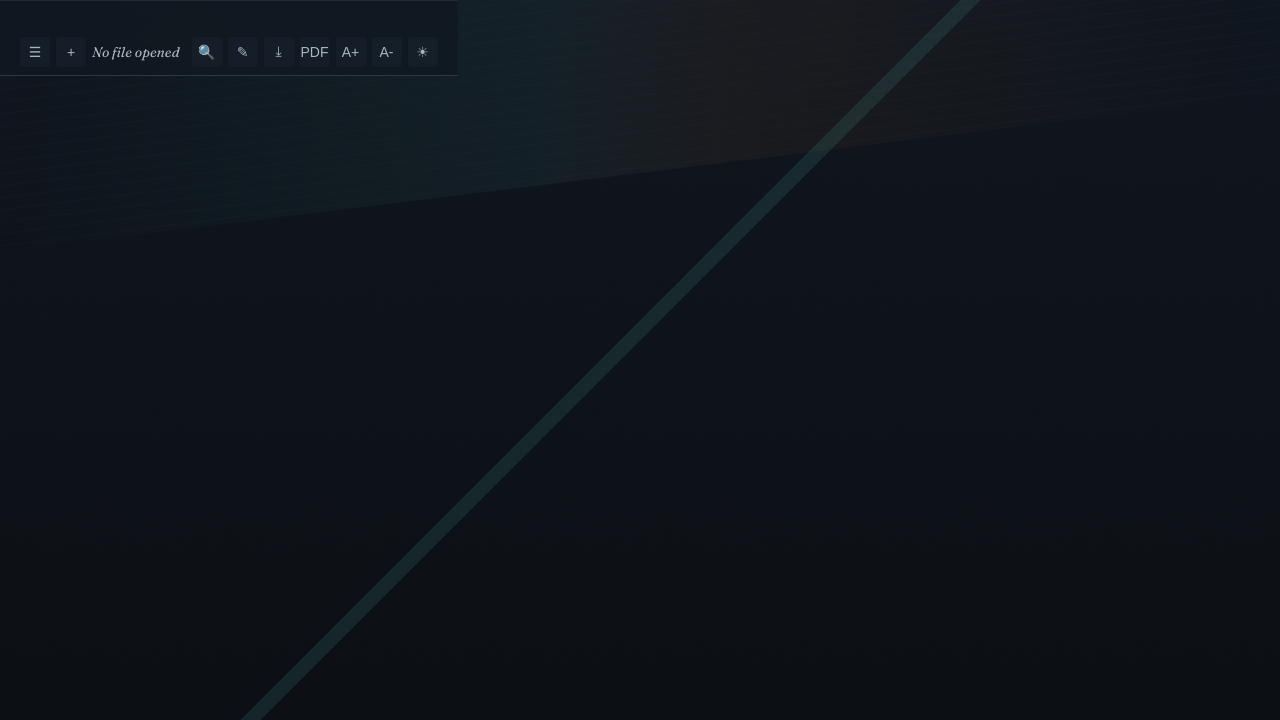
Scenario: Toolbar › clicking New Markdown creates an editable untitled document
The image size is (1280, 720).
What coordinates should you click on to do the following:
click the button titled "New Markdown"
I would click on:
 (71, 52)
Its box is [56,36,86,66].
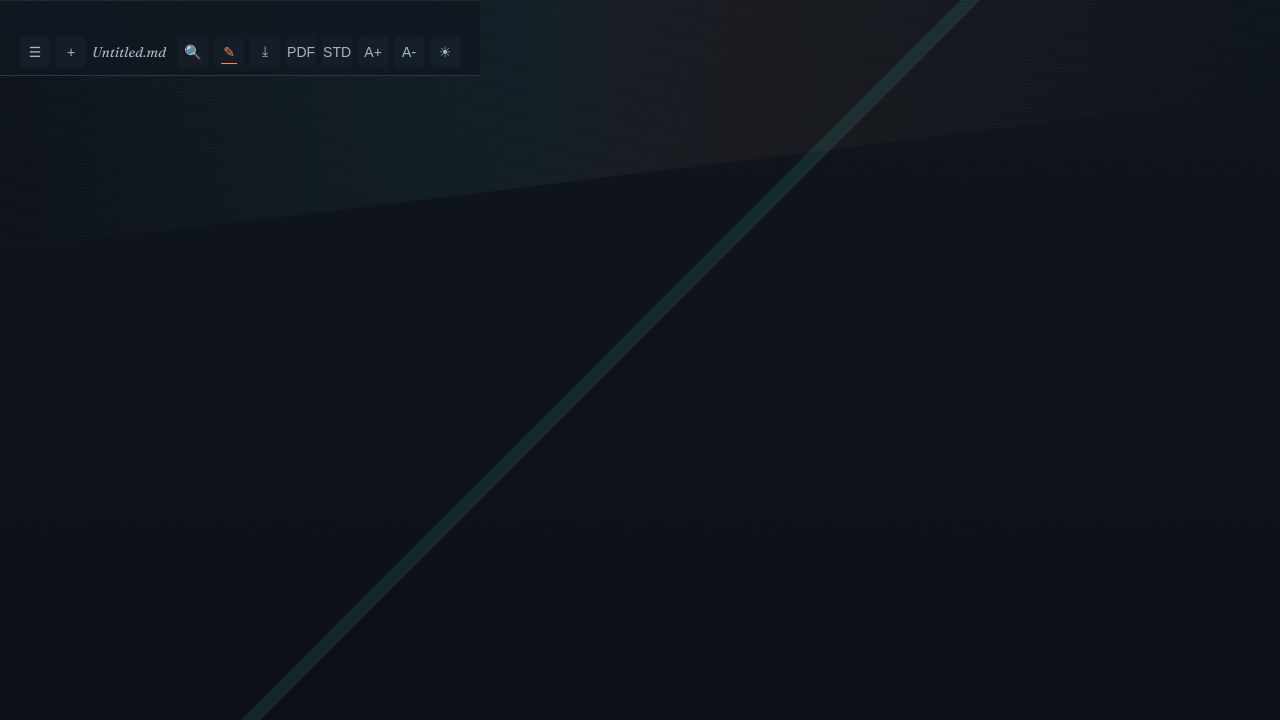
Expected: the text "Untitled.md" is shown, [92,42,166,60]
